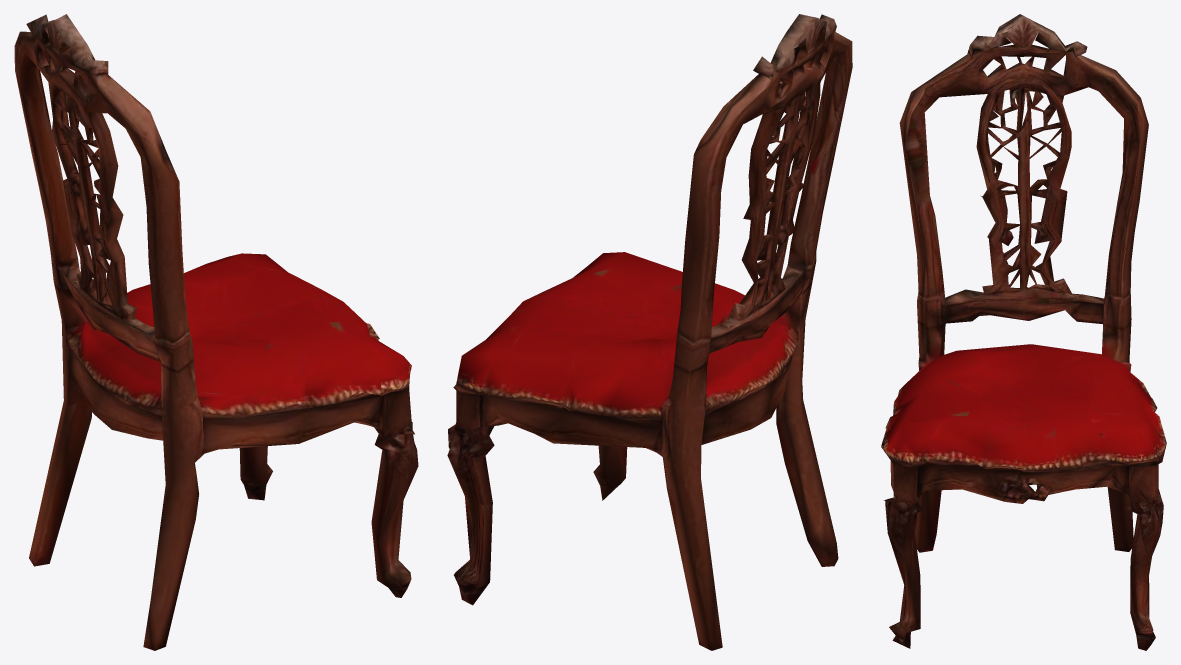
The model's file is silla.glb.
The picture shows the model from 3 angles, left to right: view 1: azimuth 30°, elevation 25°; view 2: azimuth 150°, elevation 25°; view 3: azimuth 270°, elevation 25°; orthographic projection. The views are drawn at different scales.
Parts seen in each view (by area): view 1: tripo_node_be9da563-20bb-417f-9f75-8355f7ae62d4; view 2: tripo_node_be9da563-20bb-417f-9f75-8355f7ae62d4; view 3: tripo_node_be9da563-20bb-417f-9f75-8355f7ae62d4.
Boxes of the visible parts, x1,y1,x2,y2 form: tripo_node_be9da563-20bb-417f-9f75-8355f7ae62d4: (14,14,418,650); tripo_node_be9da563-20bb-417f-9f75-8355f7ae62d4: (447,14,852,650); tripo_node_be9da563-20bb-417f-9f75-8355f7ae62d4: (881,14,1166,650).
Bounding box in the file's own units: 0.5372 × 1 × 0.4988.
1 material, 1 textured.
